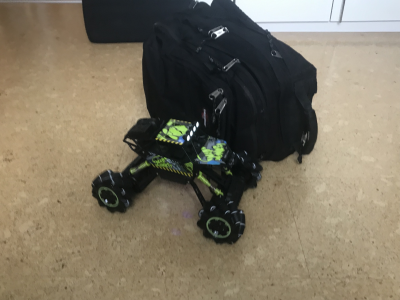remote control car: (90, 112, 264, 245)
